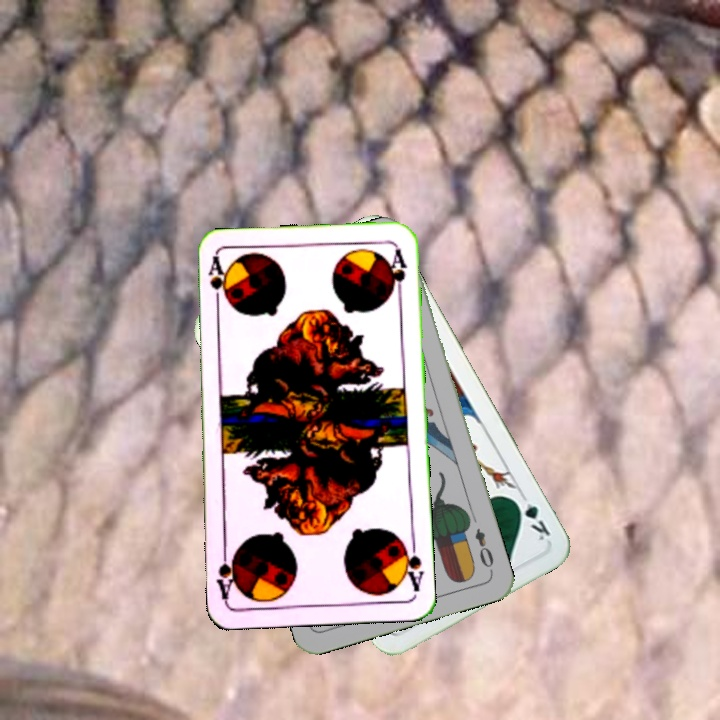EO: (471, 524, 497, 575)
GK: (509, 489, 553, 544)
SA: (397, 535, 426, 594), (204, 254, 227, 313)
